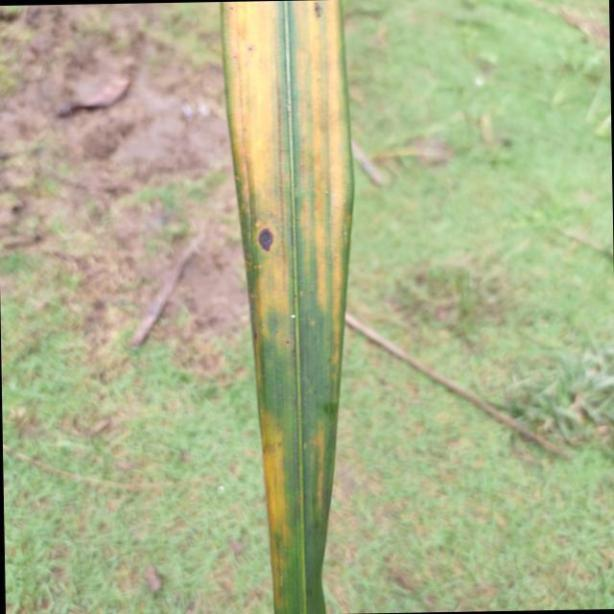Megnesium: (220, 0, 352, 614)
